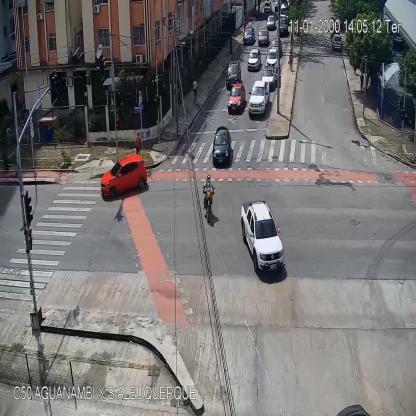car: (240, 199, 284, 276), (101, 156, 148, 200), (213, 127, 231, 164), (249, 82, 268, 116), (228, 85, 245, 112), (247, 50, 262, 71), (226, 61, 241, 81), (262, 66, 275, 88), (266, 50, 278, 70), (271, 39, 284, 54), (243, 26, 254, 43), (258, 30, 269, 46), (332, 35, 342, 52), (279, 18, 288, 34), (263, 1, 272, 13), (266, 16, 274, 28)
motorbike: (203, 175, 214, 224)
person: (134, 133, 142, 158), (192, 78, 198, 104), (288, 48, 294, 71)
